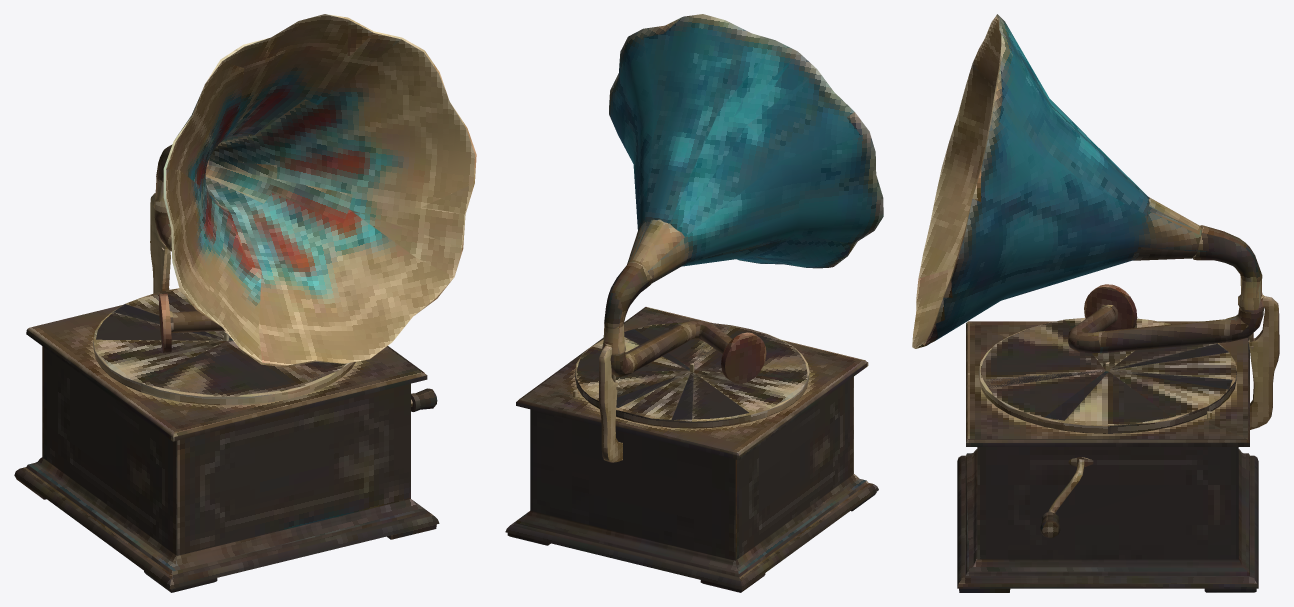
File: g_gramophone.glb
3 views of the same model, side by side, from view 1: azimuth 30°, elevation 25°; view 2: azimuth 150°, elevation 25°; view 3: azimuth 270°, elevation 25° (orthographic). The views are drawn at different scales.
Visible parts, largest first — view 1: mesh; view 2: mesh; view 3: mesh.
Boxes of the visible parts, x1,y1,x2,y2 form: mesh: [14, 14, 476, 592]; mesh: [505, 14, 883, 592]; mesh: [912, 14, 1279, 592].
Bounding box in the file's own units: 0.3139 × 0.5 × 0.3305.
1 material, 1 textured.
